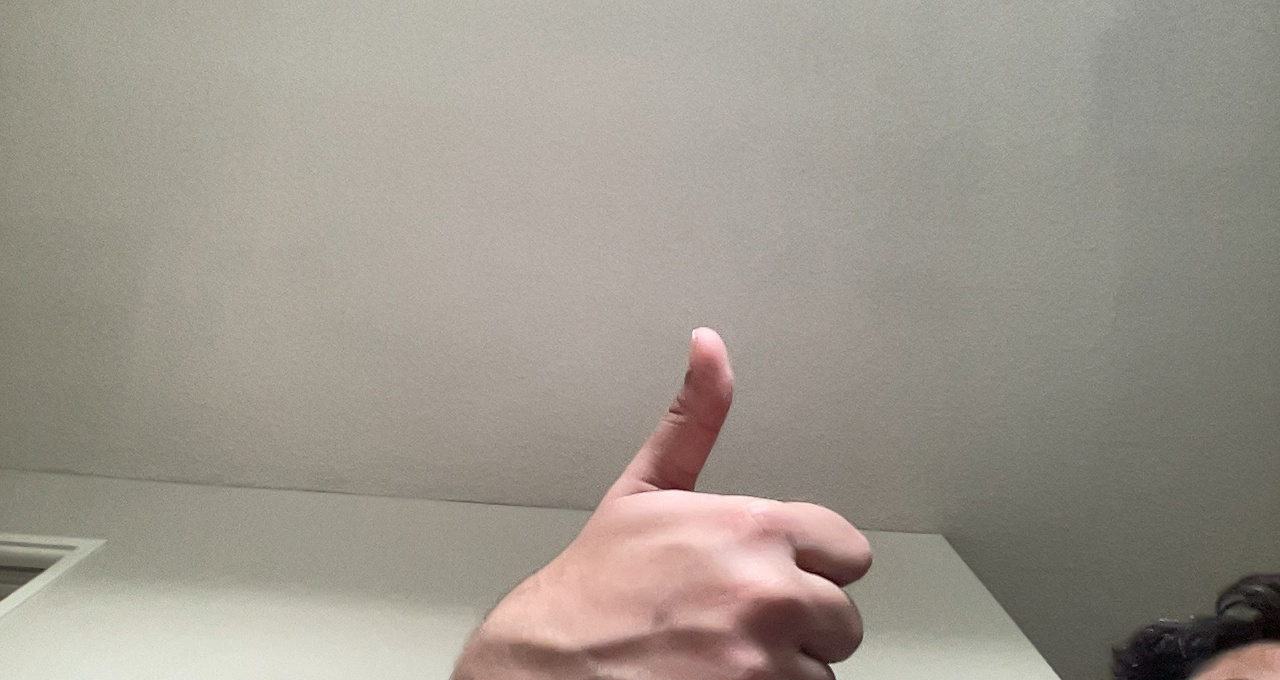thumbsup: (506, 302, 882, 677)
